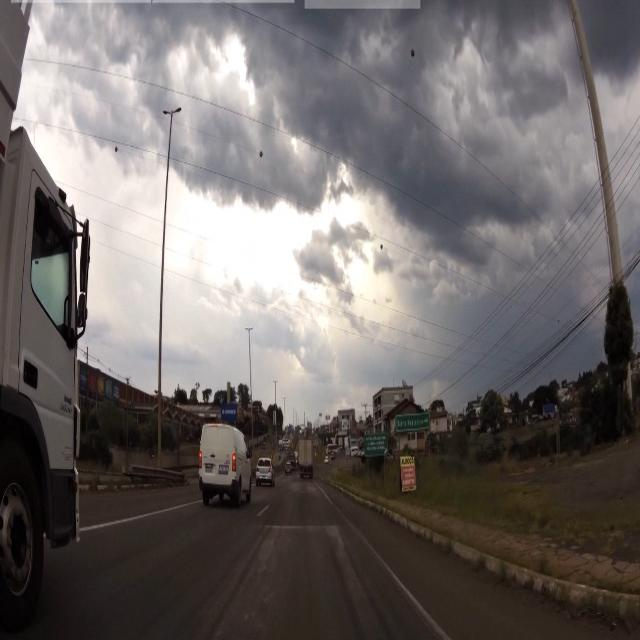I-4: (394, 414, 431, 432), (366, 433, 386, 456)
